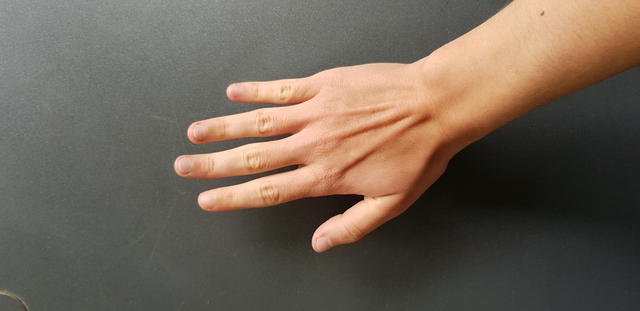Paper: (163, 68, 464, 260)
